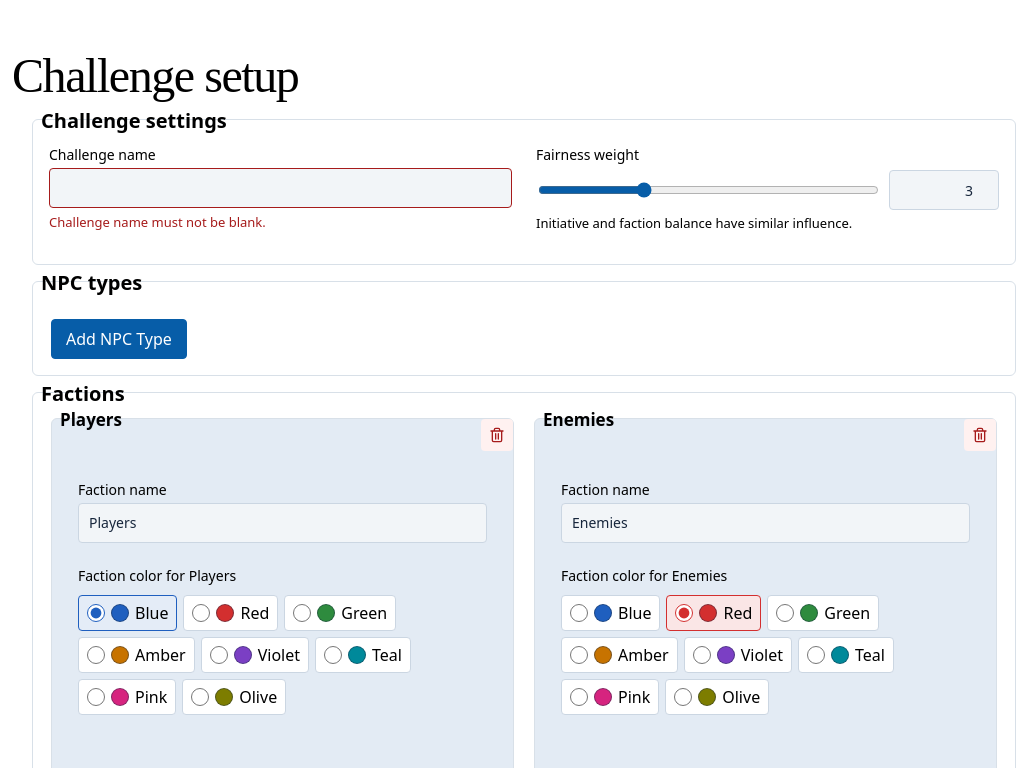
Test: challenge setup persistence › autosaves finite invalid values and blocks rolling until corrected
Expected: the heading "Challenge setup" is shown, [12, 49, 298, 102]
Replace the text in the number field named "Fairness weight value" with "-1". click: (944, 190)
box: [889, 170, 999, 210]
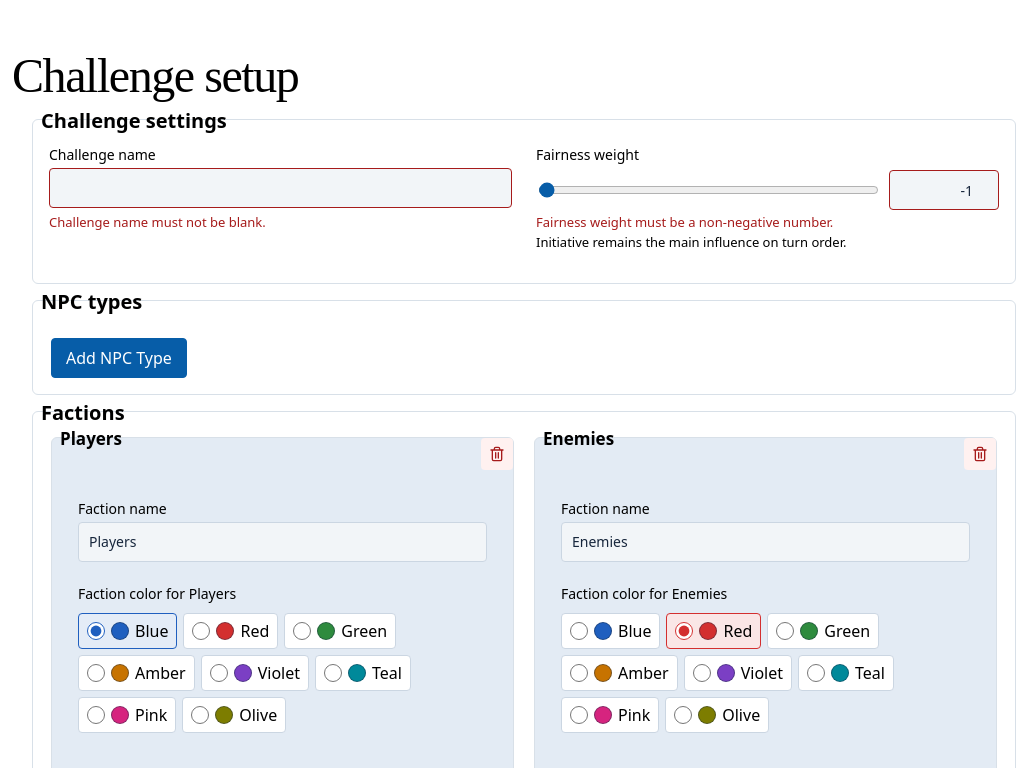
Result: the text "Fairness weight must be a non-negative number." is shown at [536, 213, 833, 231]
